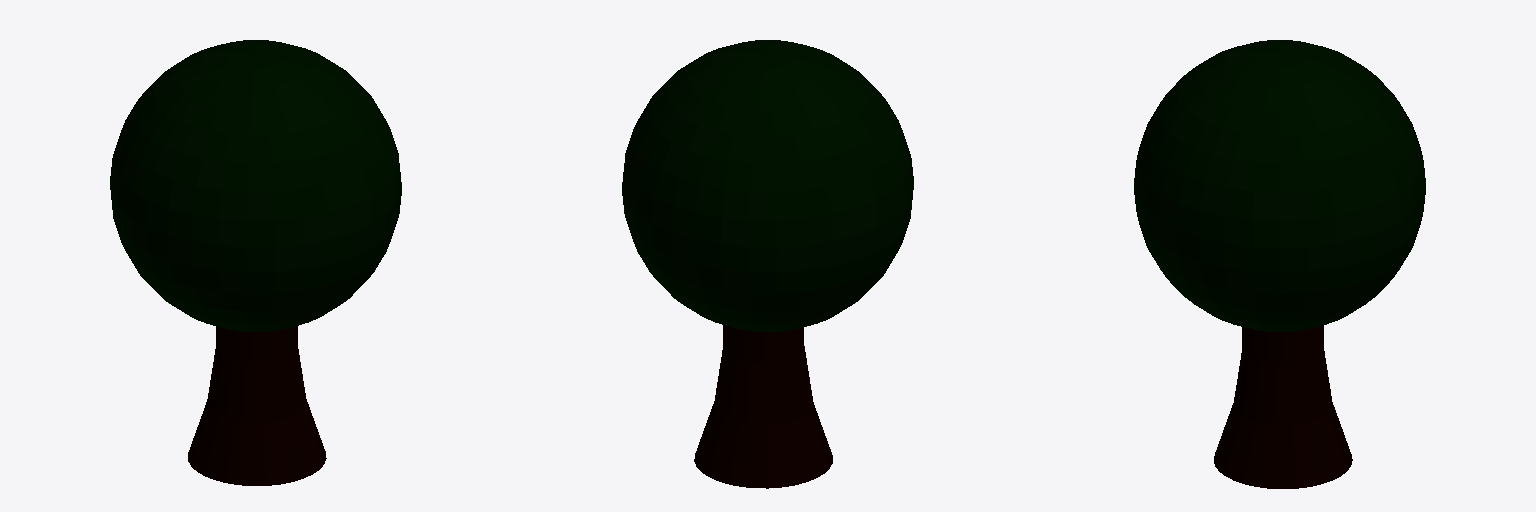
Rendered from RoundTree.obj.
The picture shows the model from 3 angles: view 1: azimuth 30°, elevation 25°; view 2: azimuth 150°, elevation 25°; view 3: azimuth 270°, elevation 25°; orthographic projection.
Visible parts, largest first — view 1: Sphere, Cylinder_Cylinder.001; view 2: Sphere, Cylinder_Cylinder.001; view 3: Sphere, Cylinder_Cylinder.001.
Part boxes in pixels (x1,y1,x2,y2): Sphere: (110, 40, 401, 331); Cylinder_Cylinder.001: (188, 326, 326, 485); Sphere: (622, 40, 913, 331); Cylinder_Cylinder.001: (694, 325, 832, 488); Sphere: (1134, 40, 1425, 331); Cylinder_Cylinder.001: (1214, 325, 1352, 488).
Size of the model in its own units: 1.9 by 2.9 by 1.9.